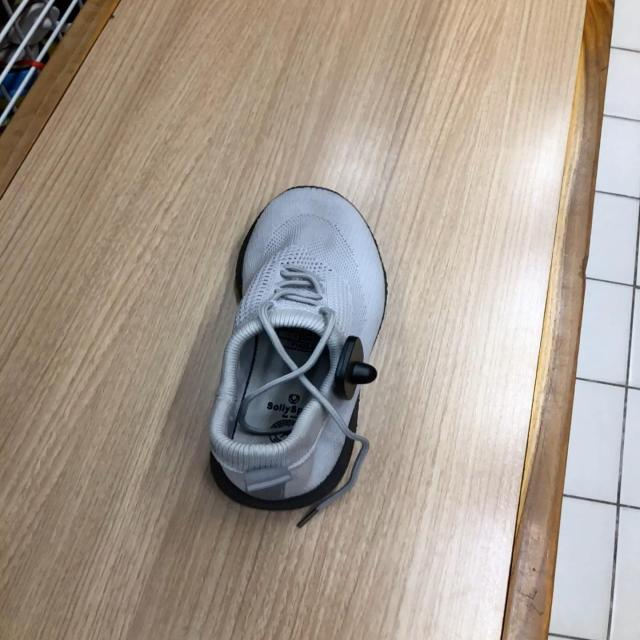shoe: (208, 187, 389, 512)
